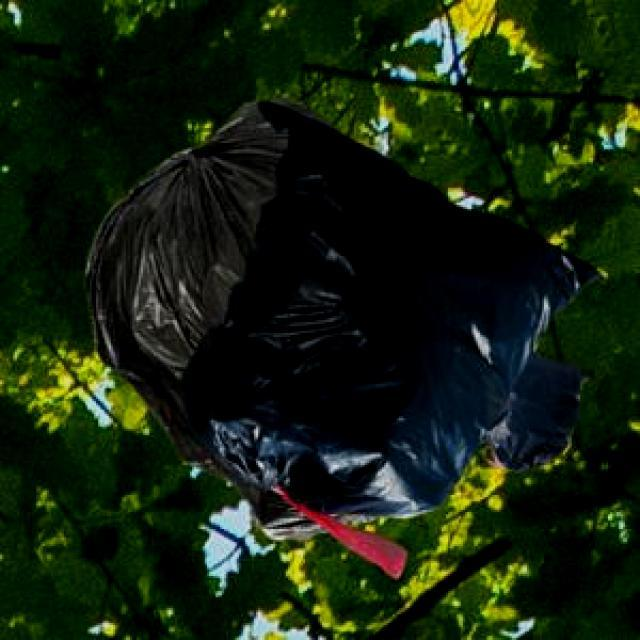Trashbag: (174, 98, 602, 532)
